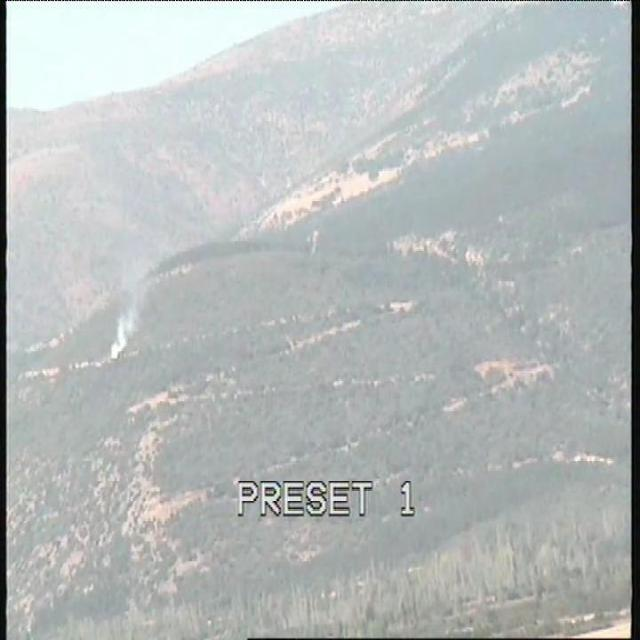Smoke: (105, 309, 139, 364)
